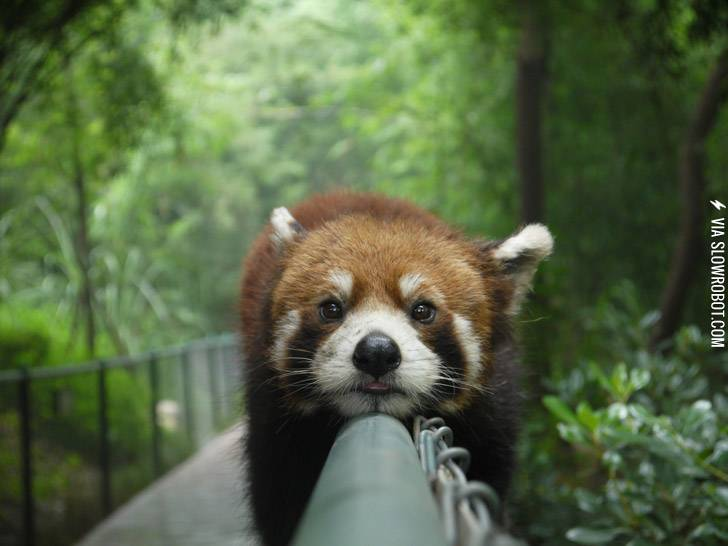red_panda: (231, 189, 560, 546)
